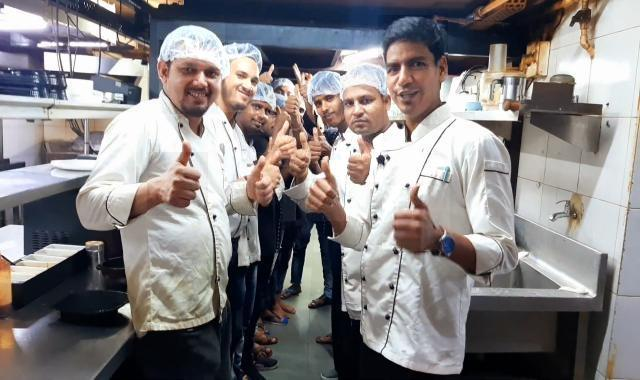gloves: (157, 22, 225, 79), (340, 63, 390, 105), (228, 40, 262, 75), (244, 80, 278, 110), (308, 71, 340, 102)
no_apron: (382, 187, 450, 252), (147, 152, 208, 217), (306, 148, 350, 221), (337, 134, 384, 182), (270, 116, 306, 168), (301, 116, 341, 160), (251, 152, 279, 205), (290, 127, 316, 181)
no_gloves: (378, 16, 448, 76)
no_hairnet: (384, 67, 439, 124), (162, 69, 222, 114), (218, 70, 260, 112), (344, 105, 385, 141), (313, 96, 343, 129), (247, 104, 268, 136)
